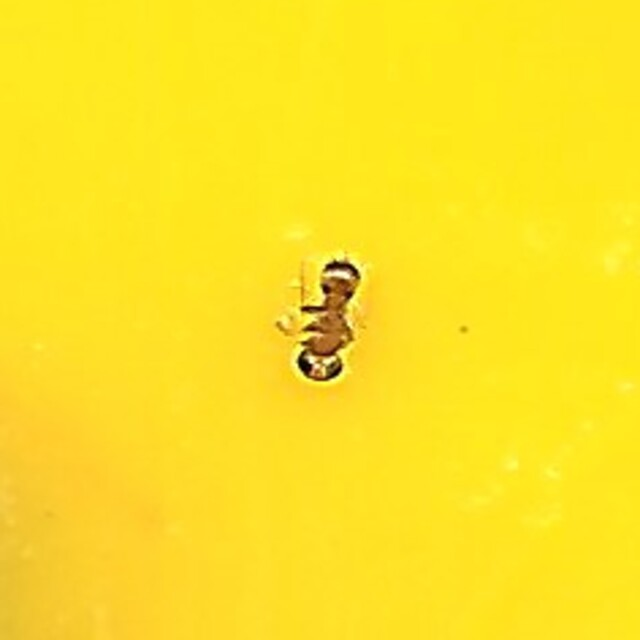Hymenoptera: (271, 249, 369, 391)
